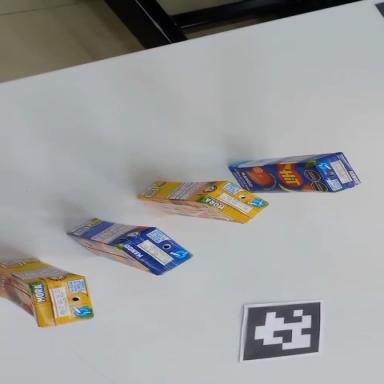HIT-MANGO: (64, 209, 195, 281), (229, 152, 360, 193)
HIT-MORA: (0, 253, 94, 331), (138, 180, 268, 223)
cara_F: (62, 234, 161, 275), (0, 265, 55, 327), (227, 163, 331, 195), (137, 199, 244, 223)
